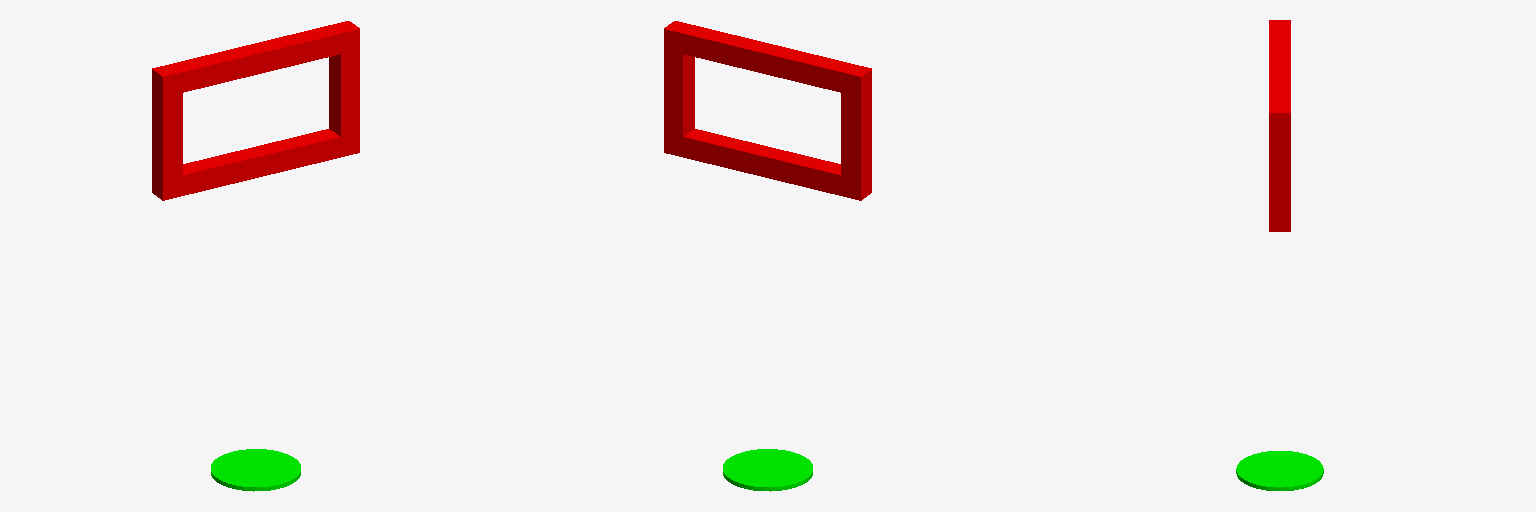
robot.urdf — robot_name:
<?xml version="1.0"?>
<robot name="robot_name">

    <link name="base_footprint"/> <!-- base_footprint marco de referencia inercial-->

    <link name="base_link">
        <visual >
            <origin xyz="0.0 0.0 0.01" rpy="0.0 0.0 0.0"/>
            <geometry>
                <cylinder radius="0.2" length="0.02"/>
            </geometry>
            <material name="Green">
                <color rgba="0.0 1.0 0.0 1.0"/>
            </material>
        </visual>
        <collision>
            <origin xyz="0.0 0.0 0.01" rpy="0.0 0.0 0.0"/>
            <geometry>
                <cylinder radius="0.2" length="0.02"/>
            </geometry>
        </collision>
        <inertial>
            <mass value="1.0"/>
            <inertia ixx="0.001" ixy="0.0" ixz="0.0" iyy="0.001" iyz="0.0" izz="0.001"/>
        </inertial>
    </link>

    <link name="obst">
        <visual>
            <origin xyz="0.0 0.0 0.0" rpy="0.0 0.0 0.0"/>
            <geometry>
                <box size="1.0 0.1 0.1"/>
            </geometry>
            <material name="Red">
                <color rgba="1.0 0.0 0.0 1.0"/>
            </material>
        </visual>
        <visual>
            <origin xyz="0.45 0.0 0.25" rpy="0.0 0.0 0.0"/>
            <geometry>
                <box size="0.1 0.1 0.4"/>
            </geometry>
            <material name="Red">
                <color rgba="1.0 0.0 0.0 1.0"/>
            </material>
        </visual>
        <visual>
            <origin xyz="-0.45 0.0 0.25" rpy="0.0 0.0 0.0"/>
            <geometry>
                <box size="0.1 0.1 0.4"/>
            </geometry>
            <material name="Red">
                <color rgba="1.0 0.0 0.0 1.0"/>
            </material>
        </visual>
        <visual>
            <origin xyz="0.0 0.0 0.5" rpy="0.0 0.0 0.0"/>
            <geometry>
                <box size="1.0 0.1 0.1"/>
            </geometry>
            <material name="Red">
                <color rgba="1.0 0.0 0.0 1.0"/>
            </material>
        </visual>
        <collision>
            <origin xyz="0.0 0.0 0.0" rpy="0.0 0.0 0.0"/>
            <geometry>
                <box size="1.0 0.1 0.1"/>
            </geometry>
        </collision>
        <collision>
            <origin xyz="0.45 0.0 0.25" rpy="0.0 0.0 0.0"/>
            <geometry>
                <box size="0.1 0.1 0.4"/>
            </geometry>
        </collision>
        <collision>
            <origin xyz="-0.45 0.0 0.25" rpy="0.0 0.0 0.0"/>
            <geometry>
                <box size="0.1 0.1 0.4"/>
            </geometry>
        </collision>
        <collision>
            <origin xyz="0.0 0.0 0.5" rpy="0.0 0.0 0.0"/>
            <geometry>
                <box size="1.0 0.1 0.1"/>
            </geometry>
        </collision>
        <inertial>
            <mass value="1.0"/>
            <inertia ixx="0.001" ixy="0.0" ixz="0.0" iyy="0.001" iyz="0.0" izz="0.001"/>
        </inertial>
    </link>

    <gazebo reference="base_link">
		<material>Gazebo/Green</material>
	</gazebo>

    <gazebo reference="obst">
		<material>Gazebo/Green</material>
	</gazebo>

    <joint name="fixed_joint" type="fixed">
        <!--origin xyz="0.0 0.0 0.0102" rpy="0.0 0.0 0.0"/-->
        <parent link="base_footprint"/>
        <child link="base_link"/>
    </joint>
    
    <joint name="joint_mov" type="prismatic">
        <parent link="base_link"/>
        <child link="obst"/>
        <origin xyz="0 0 1.5" rpy="0 0 0"/>
        <axis xyz="0 0 1"/>
        <limit effort="300" velocity="1" lower="-0.5" upper="1"/>
        <dynamics damping="0.7"/>
    </joint>

    <transmission name="tran1">
        <type>transmission_interface/SimpleTransmission</type>
        <joint name="joint_mov">
        <hardwareInterface>hardware_interface/PositionJointInterface</hardwareInterface>
        </joint>
        <actuator name="motor1">
        <!--hardwareInterface>hardware_interface/EffortJointInterface</hardwareInterface-->
        <mechanicalReduction>1</mechanicalReduction>
        </actuator>
    </transmission>
    
    <gazebo>
        <plugin name="gazebo_ros_control" filename="libgazebo_ros_control.so">
        </plugin>
    </gazebo>

</robot>

--- What the picture shows (computed from the rendered views, not written in the file) ---
The picture shows the robot from 3 angles, left to right: view 1: azimuth 30°, elevation 25°; view 2: azimuth 150°, elevation 25°; view 3: azimuth 270°, elevation 25°; orthographic projection.
Model robot_name with 3 links and 2 joints (1 prismatic, 1 fixed), rooted at base_footprint, posed all joints at 0.
Visible links, largest first — view 1: obst, base_link; view 2: obst, base_link; view 3: obst, base_link.
Link boxes in pixels (x1=…): obst: x1=152, y1=21, x2=359, y2=200; base_link: x1=211, y1=449, x2=300, y2=491; obst: x1=664, y1=21, x2=871, y2=200; base_link: x1=723, y1=449, x2=812, y2=491; obst: x1=1269, y1=20, x2=1290, y2=231; base_link: x1=1236, y1=451, x2=1323, y2=490.
Bounding box of the posed robot: 1 × 0.4 × 2.05 m (x, y, z).
Geometry: primitives only (box / cylinder / sphere), no mesh files.